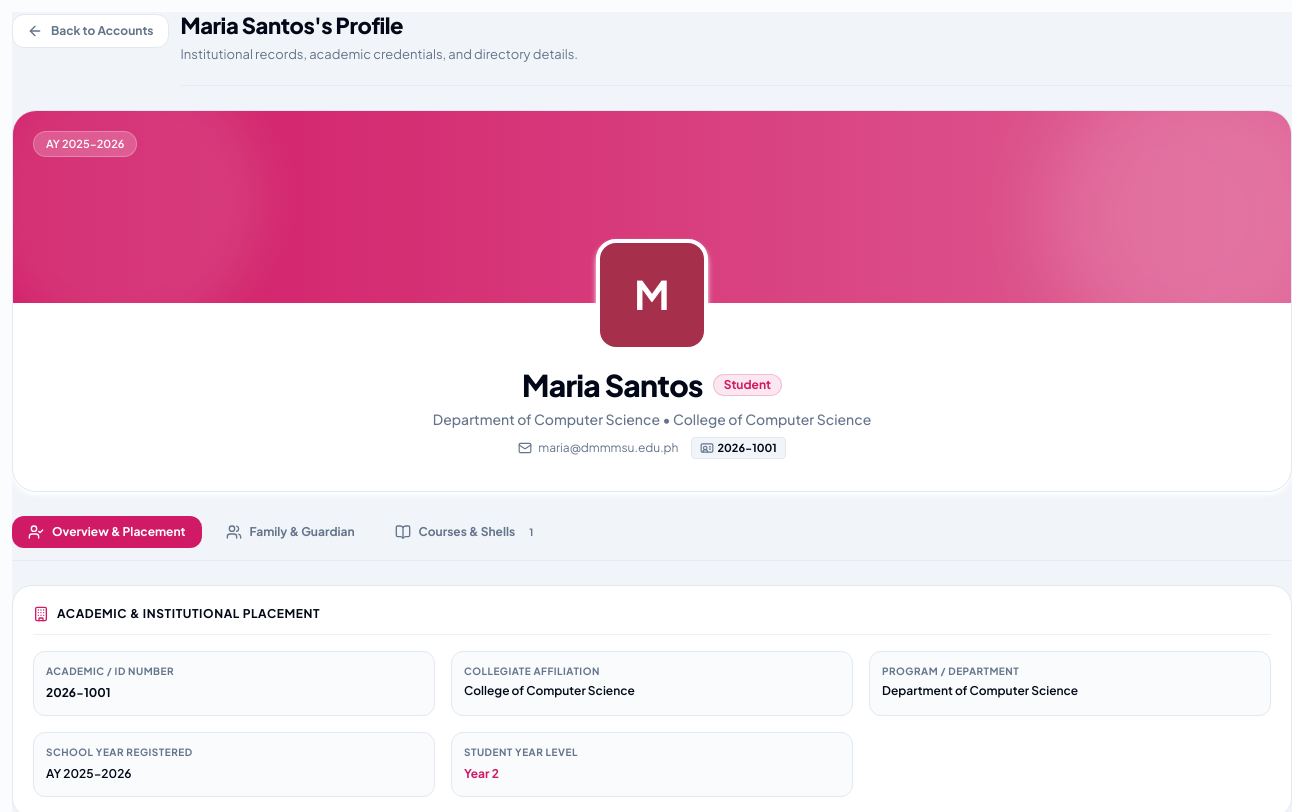
AccountProfilePage Component › switches to Family & Guardian tab for student and displays family details
This screenshot has width=1292, height=812.
Click the tab "Family & Guardian" at (290, 532), box [210,516,371,548]
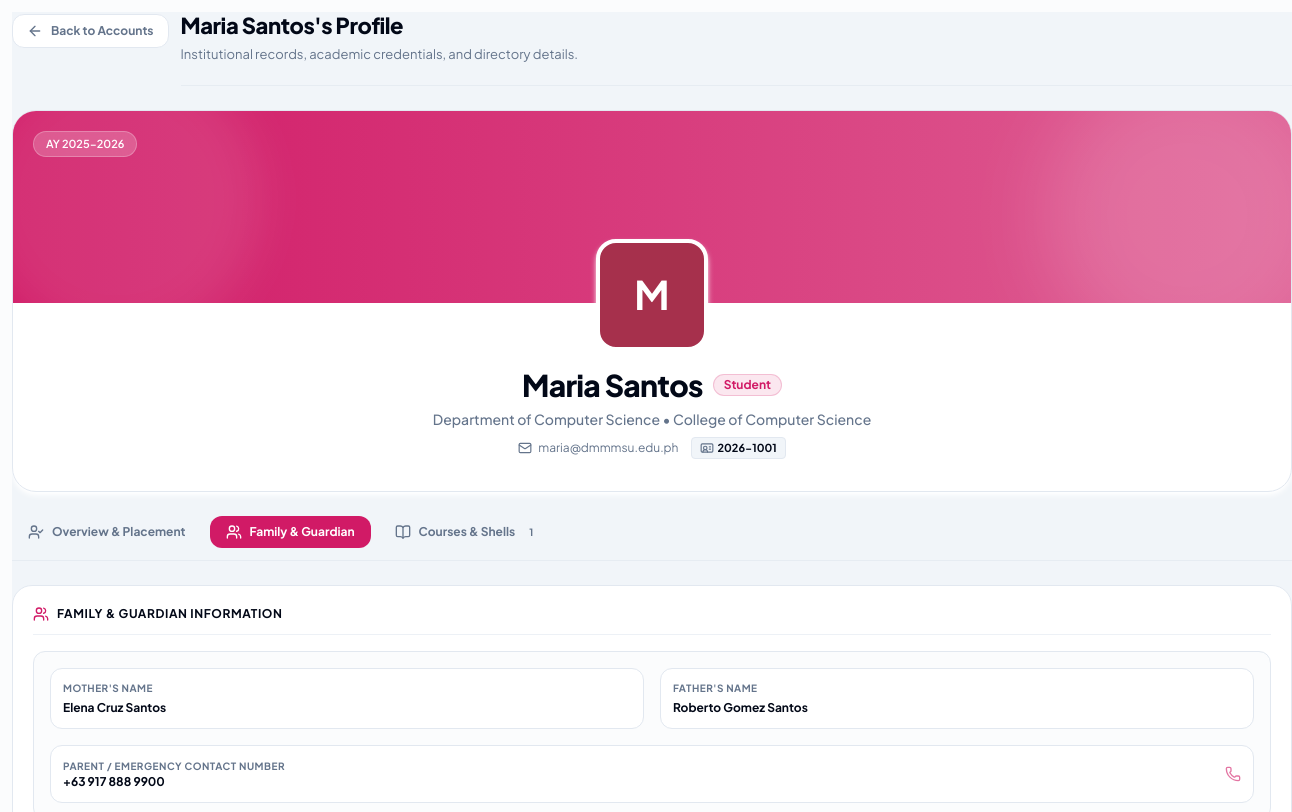
Result: the text "Mother's Name" is shown at [63,682,153,694]
Result: the text "Elena Cruz Santos" is shown at [63,700,166,715]
Result: the text "Father's Name" is shown at [673,682,758,694]
